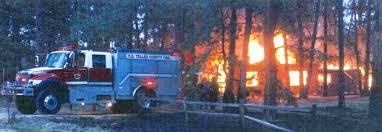fire: (314, 54, 373, 85)
